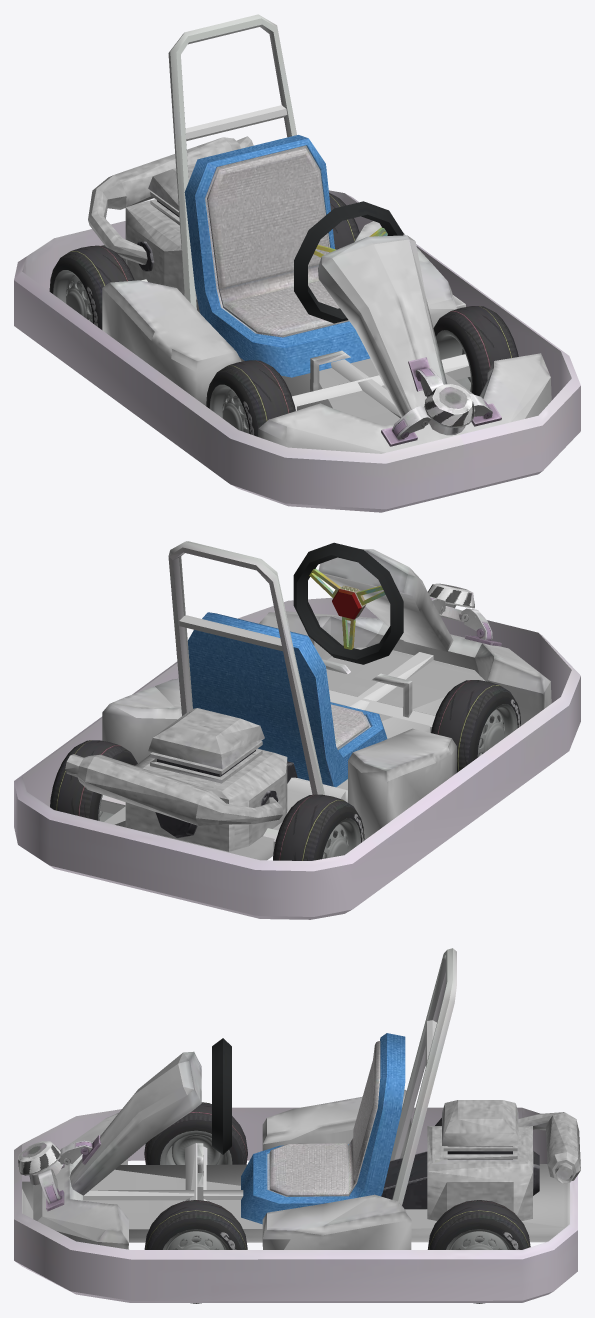
Rendered from 04-Rookie-Stock-White.glb.
3 views of the same model, one above another, from view 1: azimuth 30°, elevation 25°; view 2: azimuth 150°, elevation 25°; view 3: azimuth 270°, elevation 25° (orthographic). The views are drawn at different scales.
Visible parts, largest first — view 1: Rookie.001, Regular, Tire (×4), Enigine.001, Torus, Aero (×3), WEAPON MOUNT-Default_OBJ_3, arm1-Default_OBJ_3; view 2: Rookie.001, Enigine.001, Regular, Tire (×3), Torus, Aero (×2), INT_WHEEL_005, WEAPON MOUNT-Default_OBJ_3, arm1-Default_OBJ_3; view 3: Rookie.001, Enigine.001, Regular, Tire (×3), Aero (×3), Torus, WEAPON MOUNT-Default_OBJ_3, arm1.3-Default_OBJ_3, arm1.1-Default_OBJ_3.
Boxes of the visible parts, x1,y1,x2,y2 form: Rookie.001: (14, 14, 580, 512); Regular: (184, 135, 370, 377); Tire (×4): (49, 193, 518, 436); Enigine.001: (88, 136, 253, 299); Torus: (294, 201, 403, 323); Aero (×3): (53, 270, 472, 433); WEAPON MOUNT-Default_OBJ_3: (424, 384, 474, 435); arm1-Default_OBJ_3: (392, 406, 431, 439); Rookie.001: (14, 541, 580, 919); Enigine.001: (65, 708, 297, 851); Regular: (188, 612, 387, 787); Tire (×3): (50, 680, 520, 860); Torus: (293, 542, 403, 664); Aero (×2): (322, 704, 517, 858); INT_WHEEL_005: (309, 568, 385, 649); WEAPON MOUNT-Default_OBJ_3: (428, 583, 474, 622); arm1-Default_OBJ_3: (461, 608, 492, 640); Rookie.001: (14, 948, 577, 1302); Enigine.001: (381, 1100, 580, 1221); Regular: (241, 1033, 405, 1224); Tire (×3): (144, 1102, 530, 1303); Aero (×3): (160, 1130, 512, 1249); Torus: (212, 1038, 231, 1154); WEAPON MOUNT-Default_OBJ_3: (18, 1141, 63, 1185); arm1.3-Default_OBJ_3: (59, 1140, 92, 1164); arm1.1-Default_OBJ_3: (38, 1169, 60, 1203).
Size of the model in its own units: 5.19 by 4.62 by 8.31.
8 materials, 8 textured.
